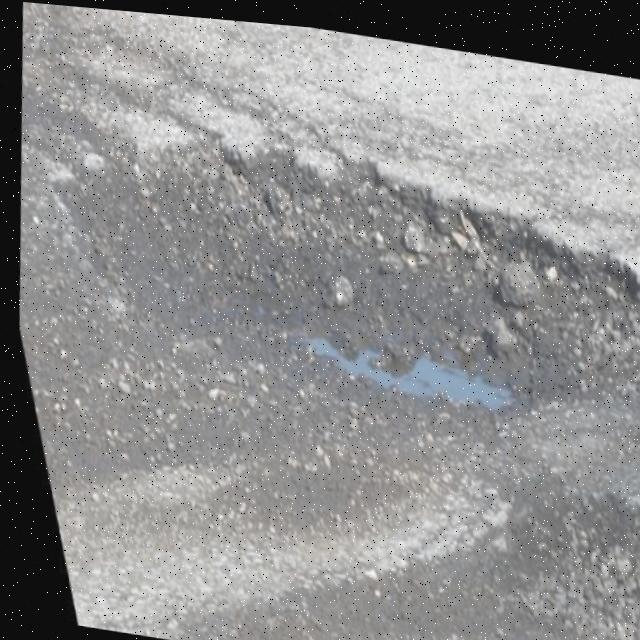Pothole: (22, 14, 640, 516), (479, 468, 640, 640)
